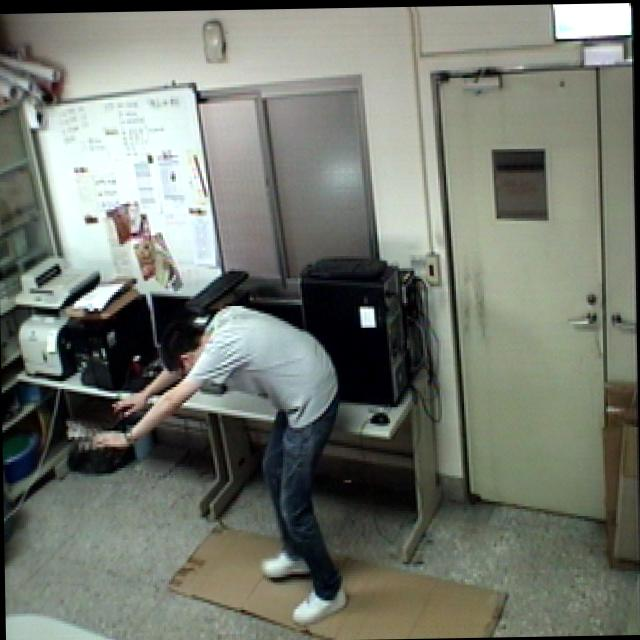bend: (83, 293, 356, 640)
